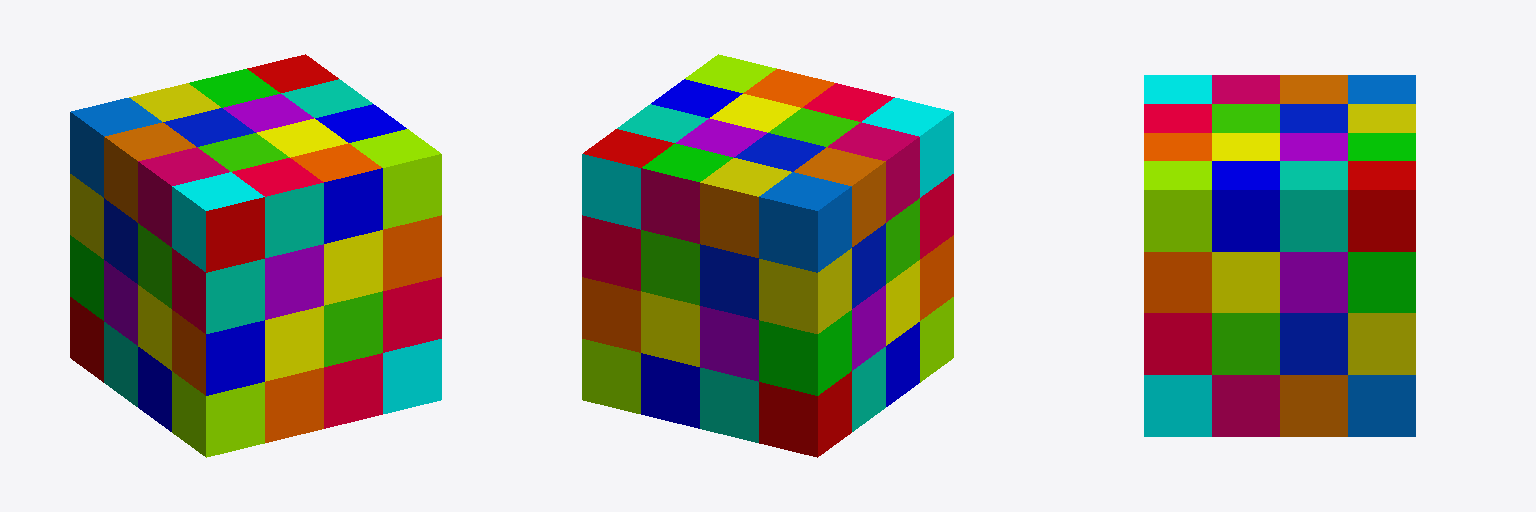
3 renders of one model, left to right at view 1: azimuth 30°, elevation 25°; view 2: azimuth 150°, elevation 25°; view 3: azimuth 270°, elevation 25°, orthographic.
Visible parts, largest first — view 1: cube; view 2: cube; view 3: cube.
Boxes of the visible parts, box(x1,y1,x2,y2) form: cube: box(70, 54, 441, 457); cube: box(582, 54, 953, 457); cube: box(1144, 75, 1415, 436).
Size of the model in its own units: 120 by 120 by 120.
1 materials, 1 textured.